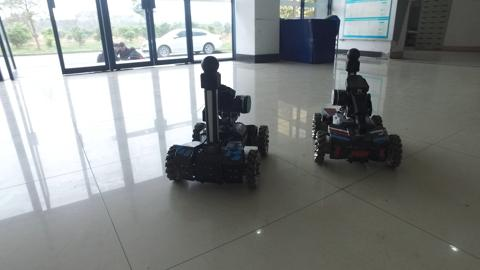car: (139, 16, 227, 58)
chariot: (165, 51, 274, 193), (305, 42, 412, 176)
